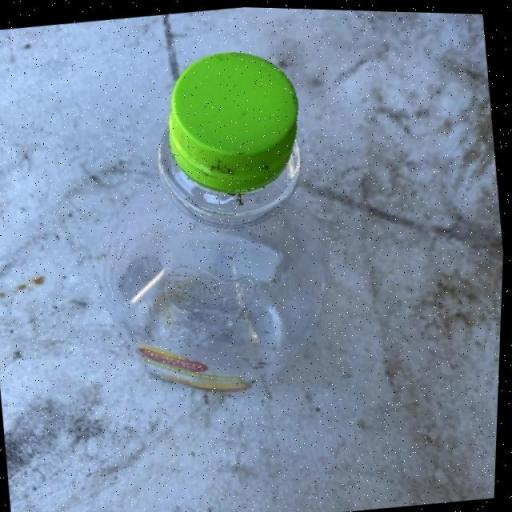plastic: (73, 34, 353, 408)
